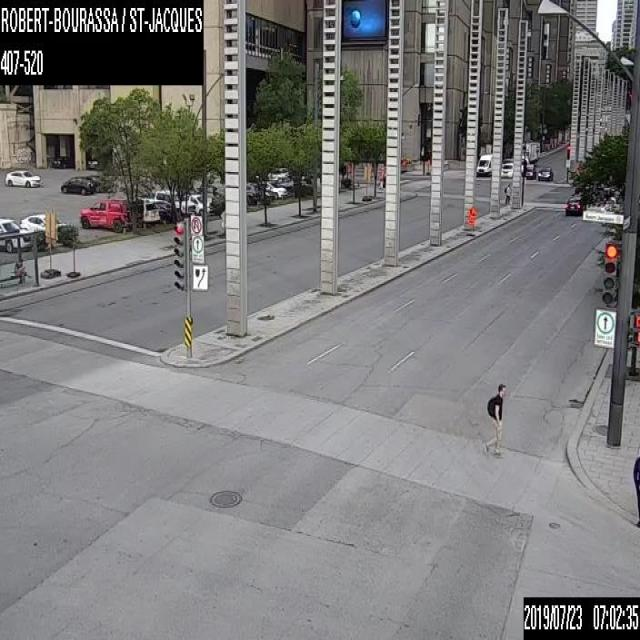construction: (464, 205, 476, 236)
pedestrian: (482, 382, 505, 454), (503, 183, 509, 204)
vehicle: (79, 197, 142, 232), (17, 211, 73, 239), (0, 217, 38, 247), (154, 188, 196, 214), (60, 175, 98, 195), (4, 169, 42, 185), (149, 198, 172, 223), (246, 181, 274, 201), (139, 198, 158, 225), (187, 192, 208, 216), (262, 182, 287, 198), (564, 193, 582, 215), (475, 152, 492, 175), (51, 154, 74, 167), (500, 160, 514, 177), (245, 188, 259, 205), (520, 165, 536, 178), (537, 167, 553, 180)
